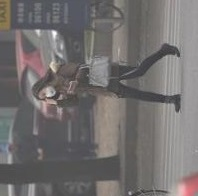person: (30, 43, 183, 110), (5, 136, 101, 162)
